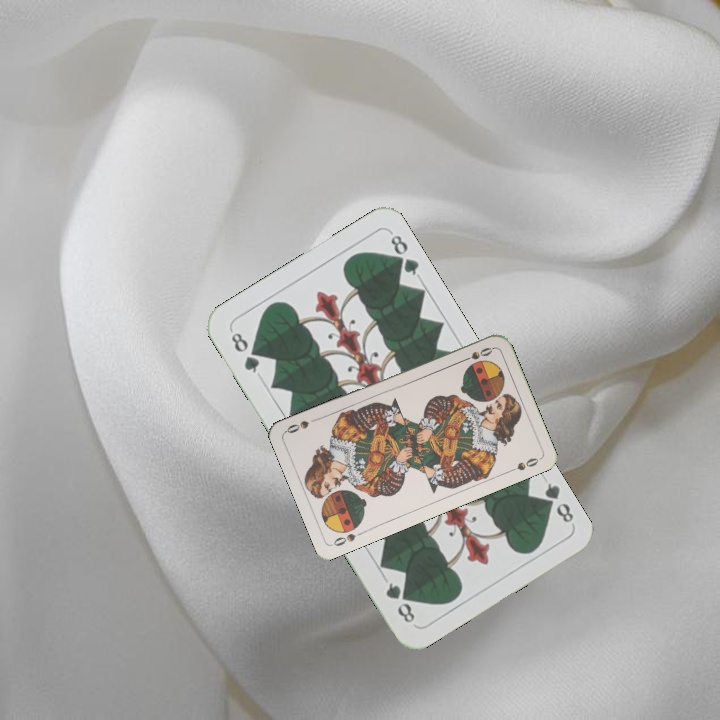G8: (535, 478, 577, 526), (226, 326, 263, 376)
SO: (329, 526, 367, 549), (457, 343, 496, 365)
